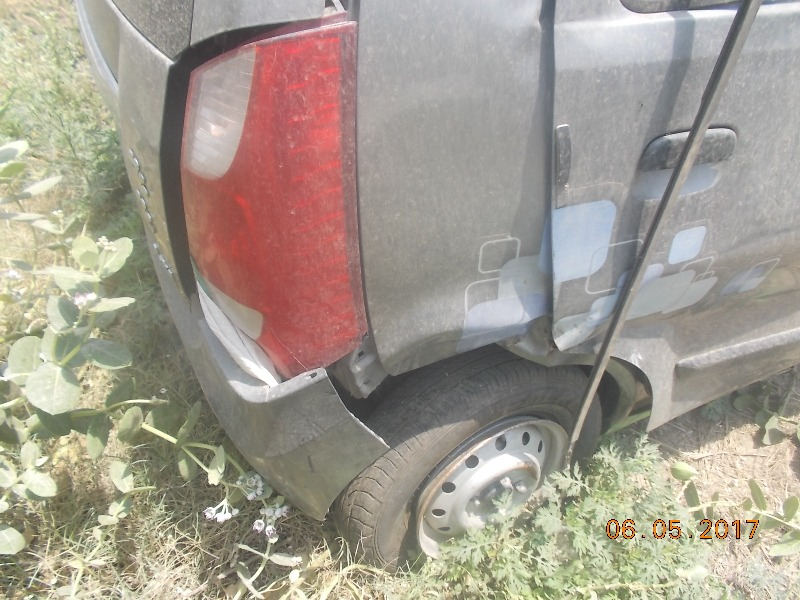Dislocation: (322, 324, 402, 425)
